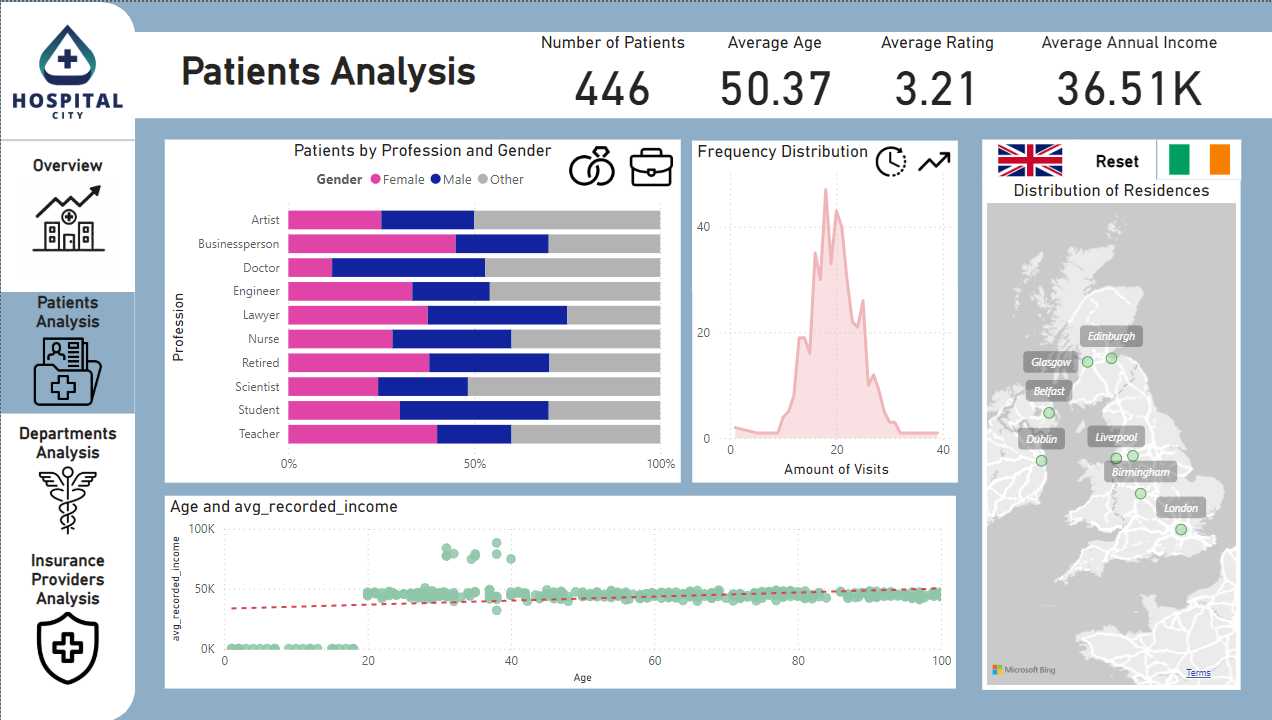

The page's visual inventory and layout, read from the dashboard file:
{"tool":"powerbi","page":{"name":"Patients","canvas":[1280,720],"ordinal":2},"visuals":[{"type":"group","id":"g1","title":"Group 1","box":[0,0,134.3,720],"z":0},{"type":"shape","box":[0,0,134.3,720],"z":0,"group":"g1"},{"type":"image","box":[0,0,133.8,137.5],"z":1000,"group":"g1"},{"type":"shape","box":[133,30.6,1146.2,86.2],"z":1000},{"type":"image","title":"Overview","box":[0,152.5,133.8,127.5],"z":2000},{"type":"image","title":"Departments Analysis","box":[0,421.4,133.8,116.2],"z":3000},{"type":"textbox","box":[163.9,41.6,327.7,62.4],"z":4000},{"type":"image","title":"Patients Analysis","box":[0,290.1,133.8,121.2],"z":5000},{"type":"image","title":"Insurance Providers Analysis","box":[0,547.8,133.8,140],"z":6000},{"type":"shape","box":[0,112.5,133.8,51.2],"z":7000},{"type":"card","title":"Number of Patients","fields":{"Values":["CountNonNull(FINAL_ABT.Patient_ID)"]},"box":[531.3,30,161.2,81.2],"z":9000},{"type":"map","title":"Distribution of Residences","fields":{"Category":["FINAL_ABT.City_of_Residence"]},"box":[981.4,177.1,258.6,510],"z":11000},{"type":"scatterChart","title":"Age and Income","fields":{"X":["FINAL_ABT.Age"],"Y":["FINAL_ABT.avg_recorded_income"]},"box":[164.3,494.3,791.4,192.9],"z":12000},{"type":"hundredPercentStackedBarChart","title":"Patients by Profession and Gender","fields":{"Category":["FINAL_ABT.Profession"],"Y":["Count(FINAL_ABT.Patient_ID)"],"Series":["FINAL_ABT.Gender"]},"box":[164.3,137.1,515.7,342.9],"z":13000},{"type":"image","box":[981.4,137.1,96.4,41.4],"z":14000},{"type":"image","box":[1155.7,137.1,84.3,40],"z":15000},{"type":"shape","box":[1077.9,137.1,77.9,41.4],"z":16000},{"type":"stackedAreaChart","title":"Distribution of Recency","fields":{"Y":["CountNonNull(FINAL_ABT.Patient_ID)"],"Category":["FINAL_ABT.recency_days"]},"box":[692.9,290,264.3,190],"z":17000},{"type":"stackedAreaChart","title":"Distribution of Membership","fields":{"Category":["FINAL_ABT.membership_days"],"Y":["CountNonNull(FINAL_ABT.Patient_ID)"]},"box":[691.4,138.6,264.3,151.4],"z":18000},{"type":"stackedAreaChart","title":"Frequency Distribution","fields":{"Category":["FINAL_ABT.total_frequency"],"Y":["CountNonNull(FINAL_ABT.Patient_ID)"]},"box":[691.4,138.6,265.7,341.4],"z":19000},{"type":"image","box":[620,138.6,60,52.9],"z":21000},{"type":"image","box":[562.9,135.7,57.1,55.7],"z":22000},{"type":"image","box":[910,138.6,45.7,41.4],"z":23000},{"type":"image","box":[870,138.6,40,41.4],"z":24000},{"type":"card","title":"Average Age","fields":{"Values":["Avg(FINAL_ABT.Age)"]},"box":[693.4,30,160,81.4],"z":25000},{"type":"card","title":"Average Rating","fields":{"Values":["Avg(FINAL_ABT.avg_Satisfaction_Level)"]},"box":[856.3,30,160,81.4],"z":26000},{"type":"card","title":"Average Annual Income","fields":{"Values":["Avg(FINAL_ABT.avg_recorded_income)"]},"box":[1015.7,30,224.3,81.4],"z":27000}]}

Visuals, with their boxes in screenshot pixels (x1, y1, x2, y2), scaled from the page's 1280x720 canvas onto the 1272x720 screenshot:
"Group 1" group: 0/0/133/719
shape: 0/0/133/719
image: 0/0/133/138
shape: 132/31/1271/117
"Overview" image: 0/152/133/280
"Departments Analysis" image: 0/421/133/538
textbox: 163/42/489/104
"Patients Analysis" image: 0/290/133/411
"Insurance Providers Analysis" image: 0/548/133/688
shape: 0/112/133/164
"Number of Patients" card: 528/30/688/111
"Distribution of Residences" map: 975/177/1232/687
"Age and Income" scatterChart: 163/494/950/687
"Patients by Profession and Gender" hundredPercentStackedBarChart: 163/137/676/480
image: 975/137/1071/178
image: 1148/137/1232/177
shape: 1071/137/1149/178
"Distribution of Recency" stackedAreaChart: 689/290/951/480
"Distribution of Membership" stackedAreaChart: 687/139/950/290
"Frequency Distribution" stackedAreaChart: 687/139/951/480
image: 616/139/676/192
image: 559/136/616/191
image: 904/139/950/180
image: 865/139/904/180
"Average Age" card: 689/30/848/111
"Average Rating" card: 851/30/1010/111
"Average Annual Income" card: 1009/30/1232/111
